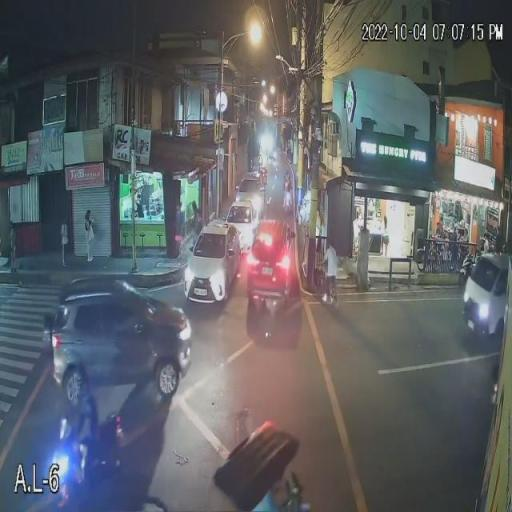helmet: (72, 372, 92, 394)
motorcycle: (50, 414, 131, 495)
rider: (70, 367, 99, 457)
